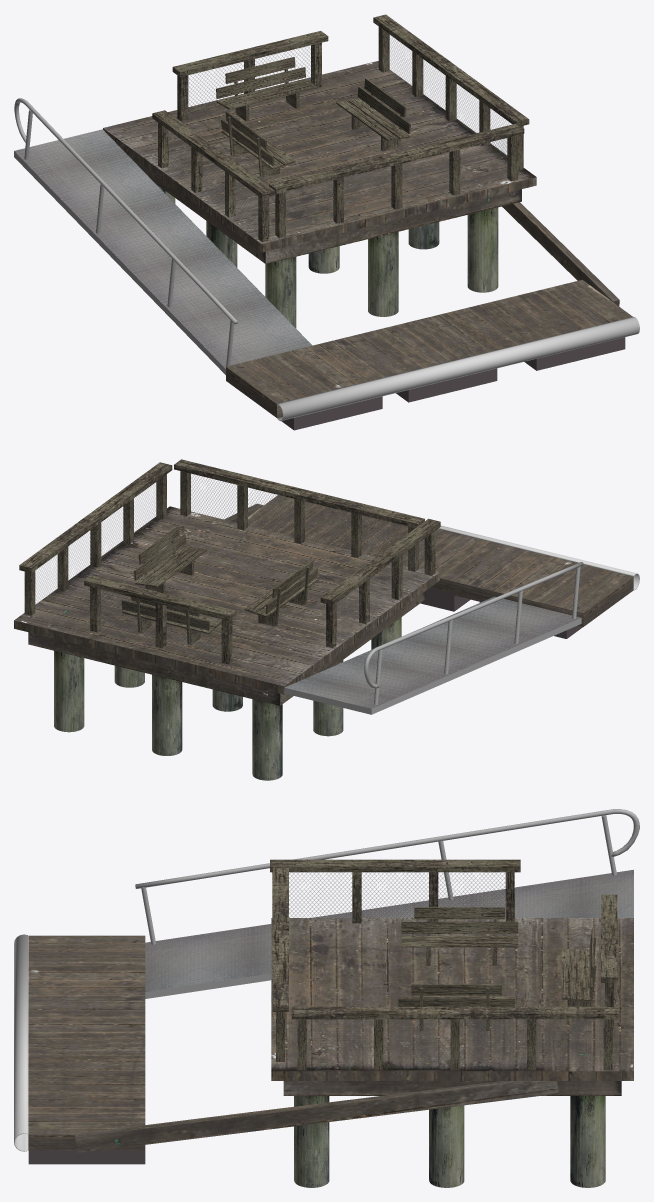
File: docks.glb
The picture shows the model from 3 angles, top to bottom: view 1: azimuth 30°, elevation 25°; view 2: azimuth 150°, elevation 25°; view 3: azimuth 270°, elevation 25°; orthographic projection. The views are drawn at different scales.
Parts seen in each view (by area): view 1: base, Dock, down ramp, Dock Wood Railing, Dock Wood Railing.001, Dock Wood Railing.002, Dock Wood Railing.003, bench, bench.001, Metal Railing, pillar, pillar.003 (+5 smaller); view 2: base, Dock, down ramp, Dock Wood Railing, Dock Wood Railing.001, Dock Wood Railing.003, Dock Wood Railing.002, bench.001, pillar.008, pillar.002, pillar.005, Metal Railing (+6 smaller); view 3: base, Dock, down ramp, Dock Wood Railing.001, Dock Wood Railing.002, bench.002, Metal Railing, pillar.002, Dock Wood Railing, pillar.001, pillar, bench.001 (+2 smaller).
Part boxes in pixels (x1,y1,x2,y2): base: (103,61,536,263); Dock: (226,202,639,430); down ramp: (14,129,312,374); Dock Wood Railing: (269,123,524,237); Dock Wood Railing.001: (373,14,529,170); Dock Wood Railing.002: (152,110,274,241); Dock Wood Railing.003: (172,31,328,121); bench: (216,57,318,121); bench.001: (336,78,410,151); Metal Railing: (14,98,237,366); pillar: (467,207,498,292); pillar.003: (368,231,398,316); base: (14,506,439,705); Dock: (224,495,639,638); down ramp: (284,596,581,714); Dock Wood Railing: (174,459,424,571); Dock Wood Railing.001: (19,462,172,615); Dock Wood Railing.003: (84,575,236,664); Dock Wood Railing.002: (320,518,440,647); bench.001: (134,526,207,593); pillar.008: (252,699,282,780); pillar.002: (54,651,84,732); pillar.005: (152,674,182,755); Metal Railing: (364,562,583,704); base: (271,918,633,1095); Dock: (14,934,558,1164); down ramp: (145,869,633,998); Dock Wood Railing.001: (291,1006,618,1070); Dock Wood Railing.002: (270,859,520,923); bench.002: (401,907,518,965); Metal Railing: (135,809,639,944); pillar.002: (570,1096,605,1187); Dock Wood Railing: (272,868,288,1061); pillar.001: (429,1105,464,1187); pillar: (294,1096,329,1187); bench.001: (398,984,514,1030).
Size of the model in its own units: 9.38 by 4.07 by 12.12.
Materials: 9 (6 with a texture image).
